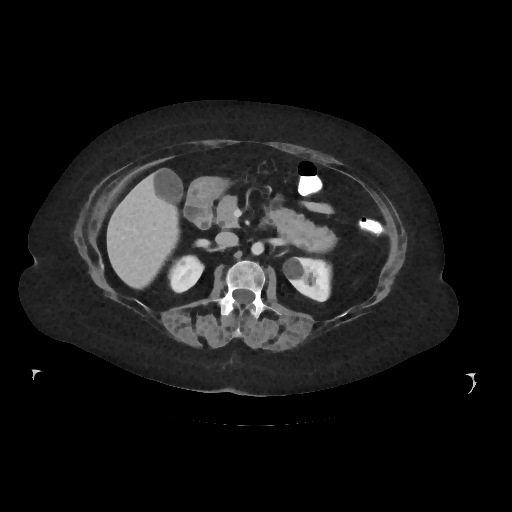Lesion: (279, 257, 307, 283)
